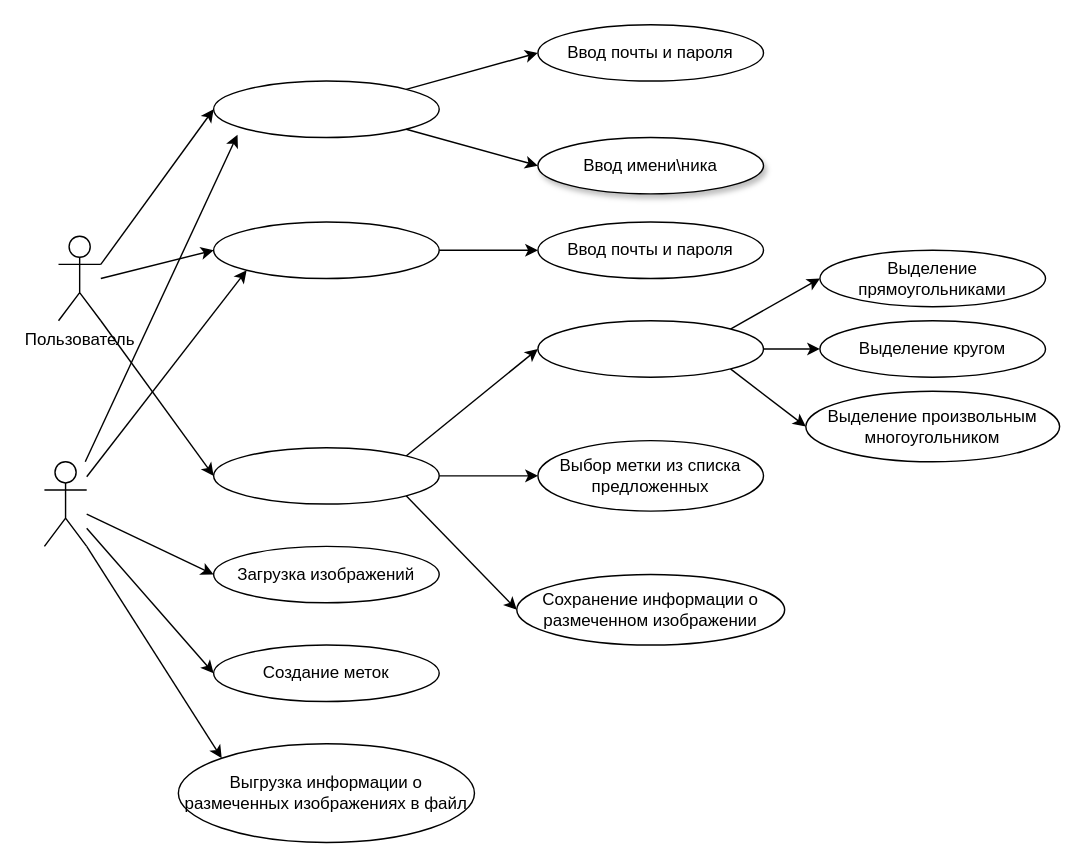
The diagram is 1084 pixels wide and 867 high, and some of its shapes have lost their labels. Here are the shapes that lost their labels. From the top down, the centre of each, then its label:
At [325,108]: "Регистрация".
At [325,249]: "Вход".
At [650,348]: "Выделение объекта на изображении".
At [325,475]: "Разметка изображения".
At [65,503]: "Админ".
